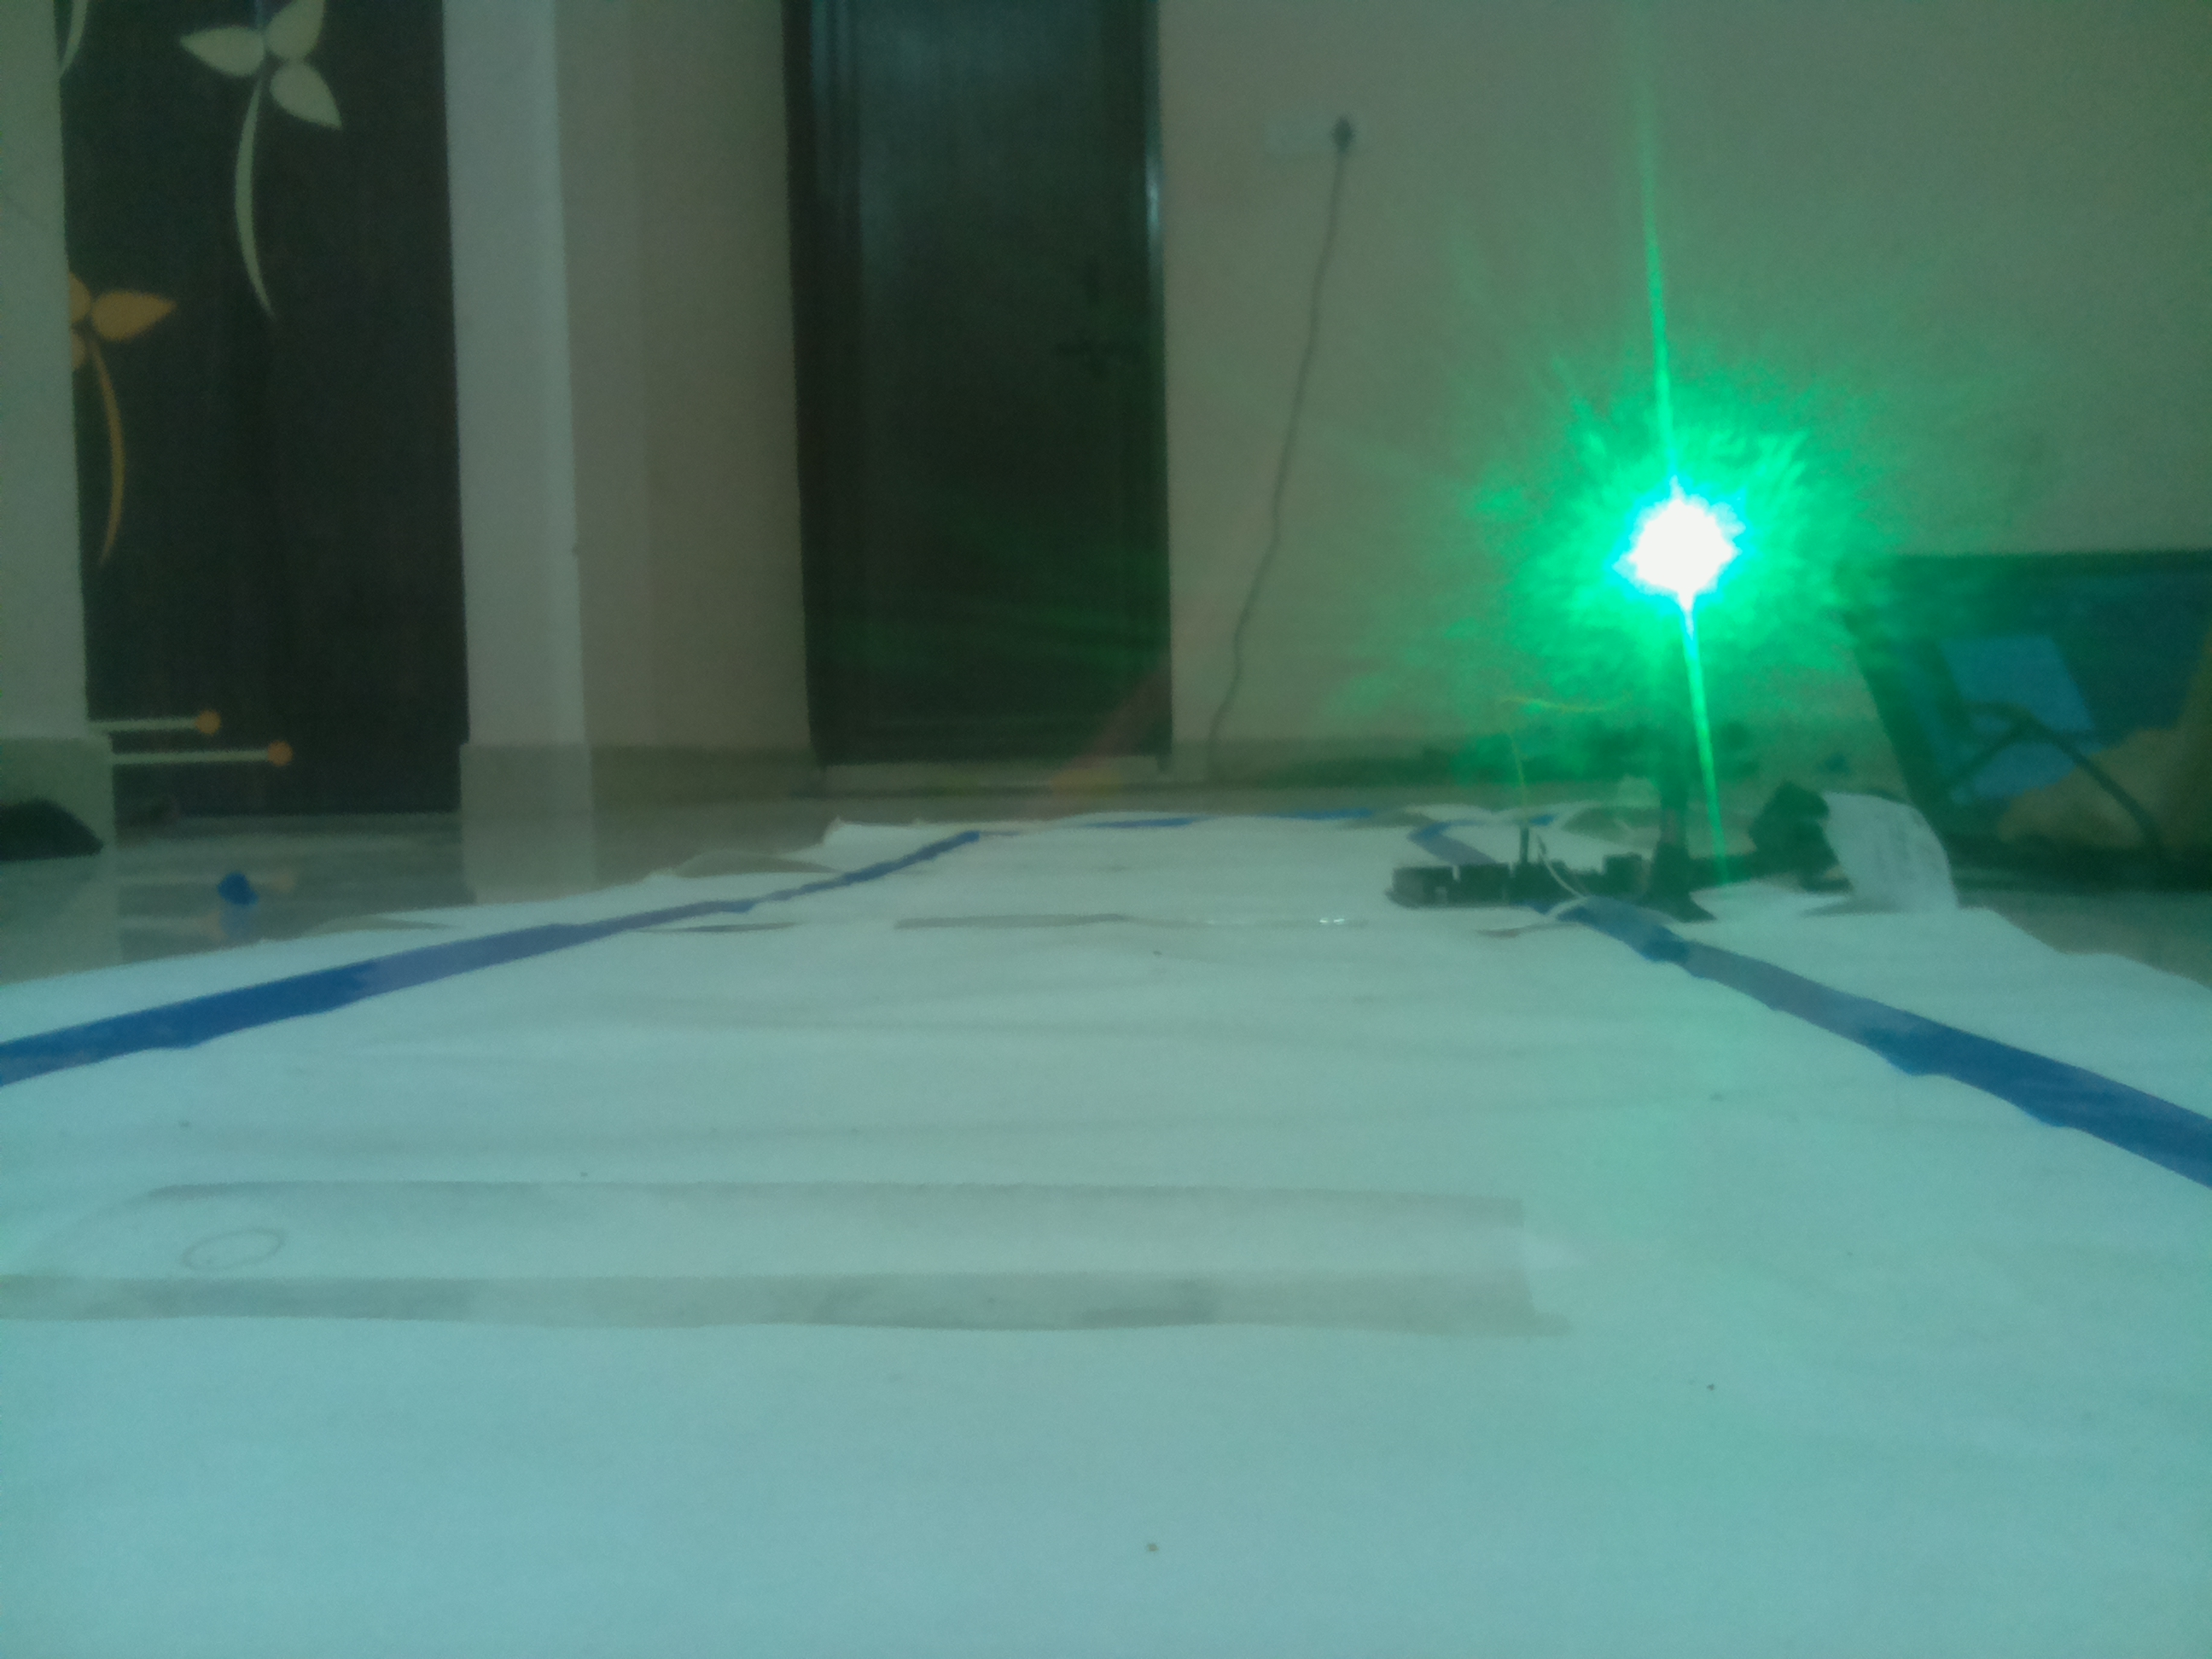green Light: (1569, 418, 1789, 713)
